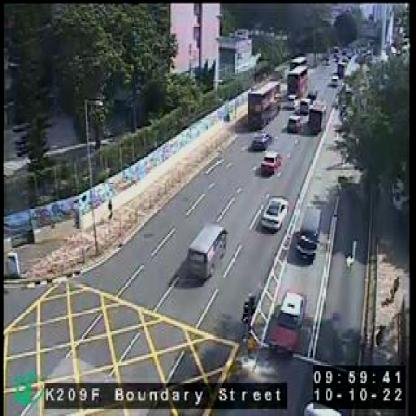Bus: (246, 81, 280, 128), (288, 66, 308, 100)
Car: (266, 290, 307, 352), (186, 221, 227, 281), (296, 210, 322, 260), (259, 193, 287, 229), (298, 403, 353, 415), (262, 150, 282, 176), (252, 130, 272, 149), (288, 115, 302, 133)
Truck: (310, 100, 326, 133)
